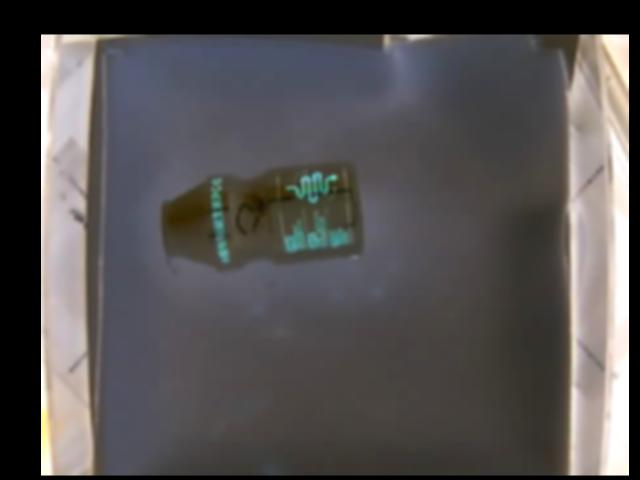Bottle: (160, 158, 361, 272)
